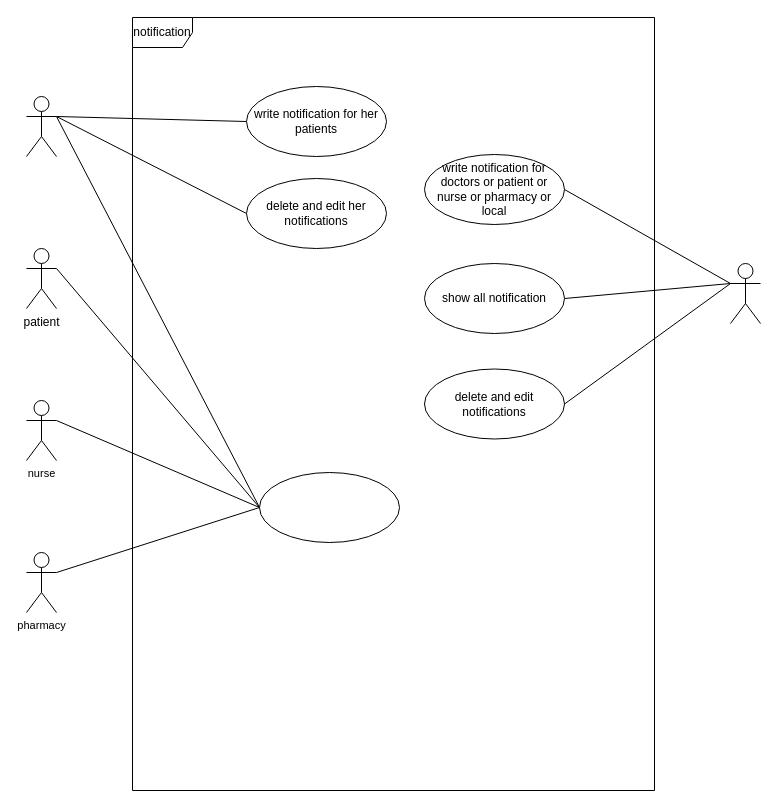
The diagram is 779 pixels wide and 808 high, and some of its shapes have lost their labels. Each missing label, with the centre of its shape:
"admin" goes at (745,293).
"doctor" goes at (41,126).
"show her notifications" goes at (329,507).
